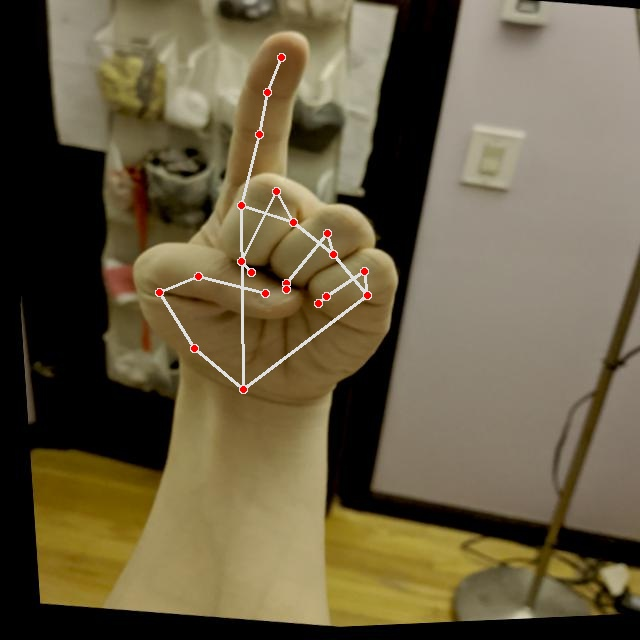D: (89, 4, 439, 433)
